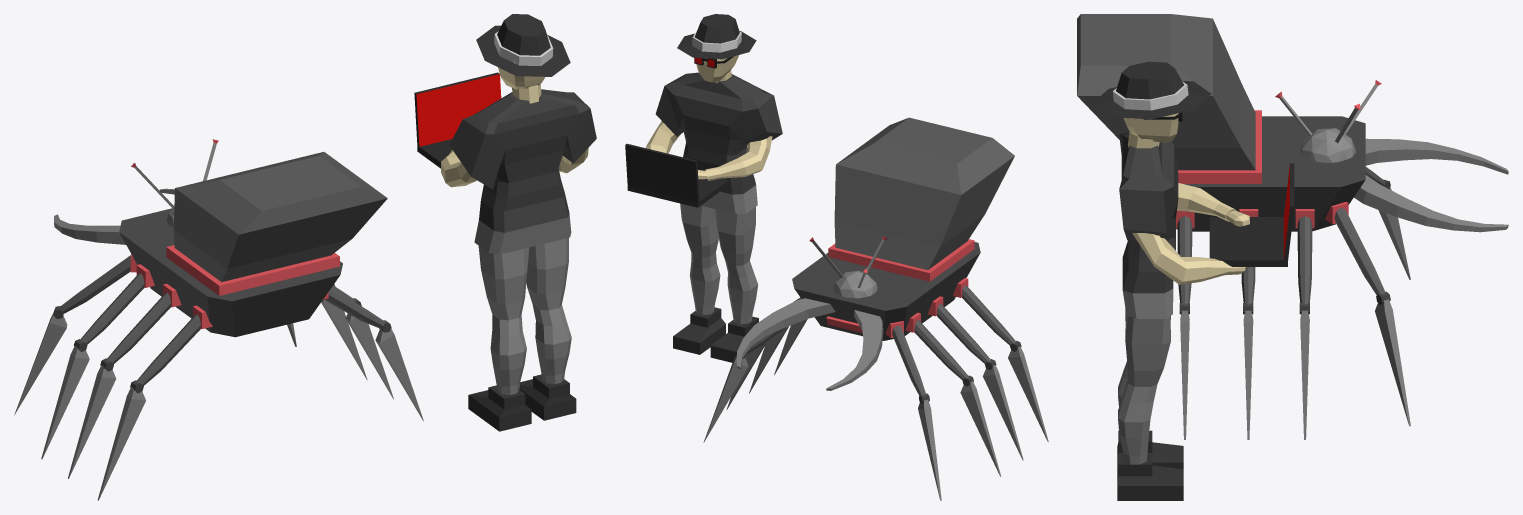
3 renders of one model, left to right at view 1: azimuth 30°, elevation 25°; view 2: azimuth 150°, elevation 25°; view 3: azimuth 270°, elevation 25°, orthographic. The views are drawn at different scales.
Parts seen in each view (by area): view 1: Cube.097, Cube.119; view 2: Cube.097, Cube.119; view 3: Cube.097, Cube.119.
Boxes of the visible parts, x1,y1,x2,y2 form: Cube.097: [14, 139, 423, 500]; Cube.119: [414, 14, 596, 431]; Cube.097: [703, 117, 1048, 500]; Cube.119: [625, 14, 782, 362]; Cube.097: [1077, 14, 1508, 439]; Cube.119: [1091, 61, 1294, 500].
Size of the model in its own units: 1.01 by 0.7862 by 0.7402.
